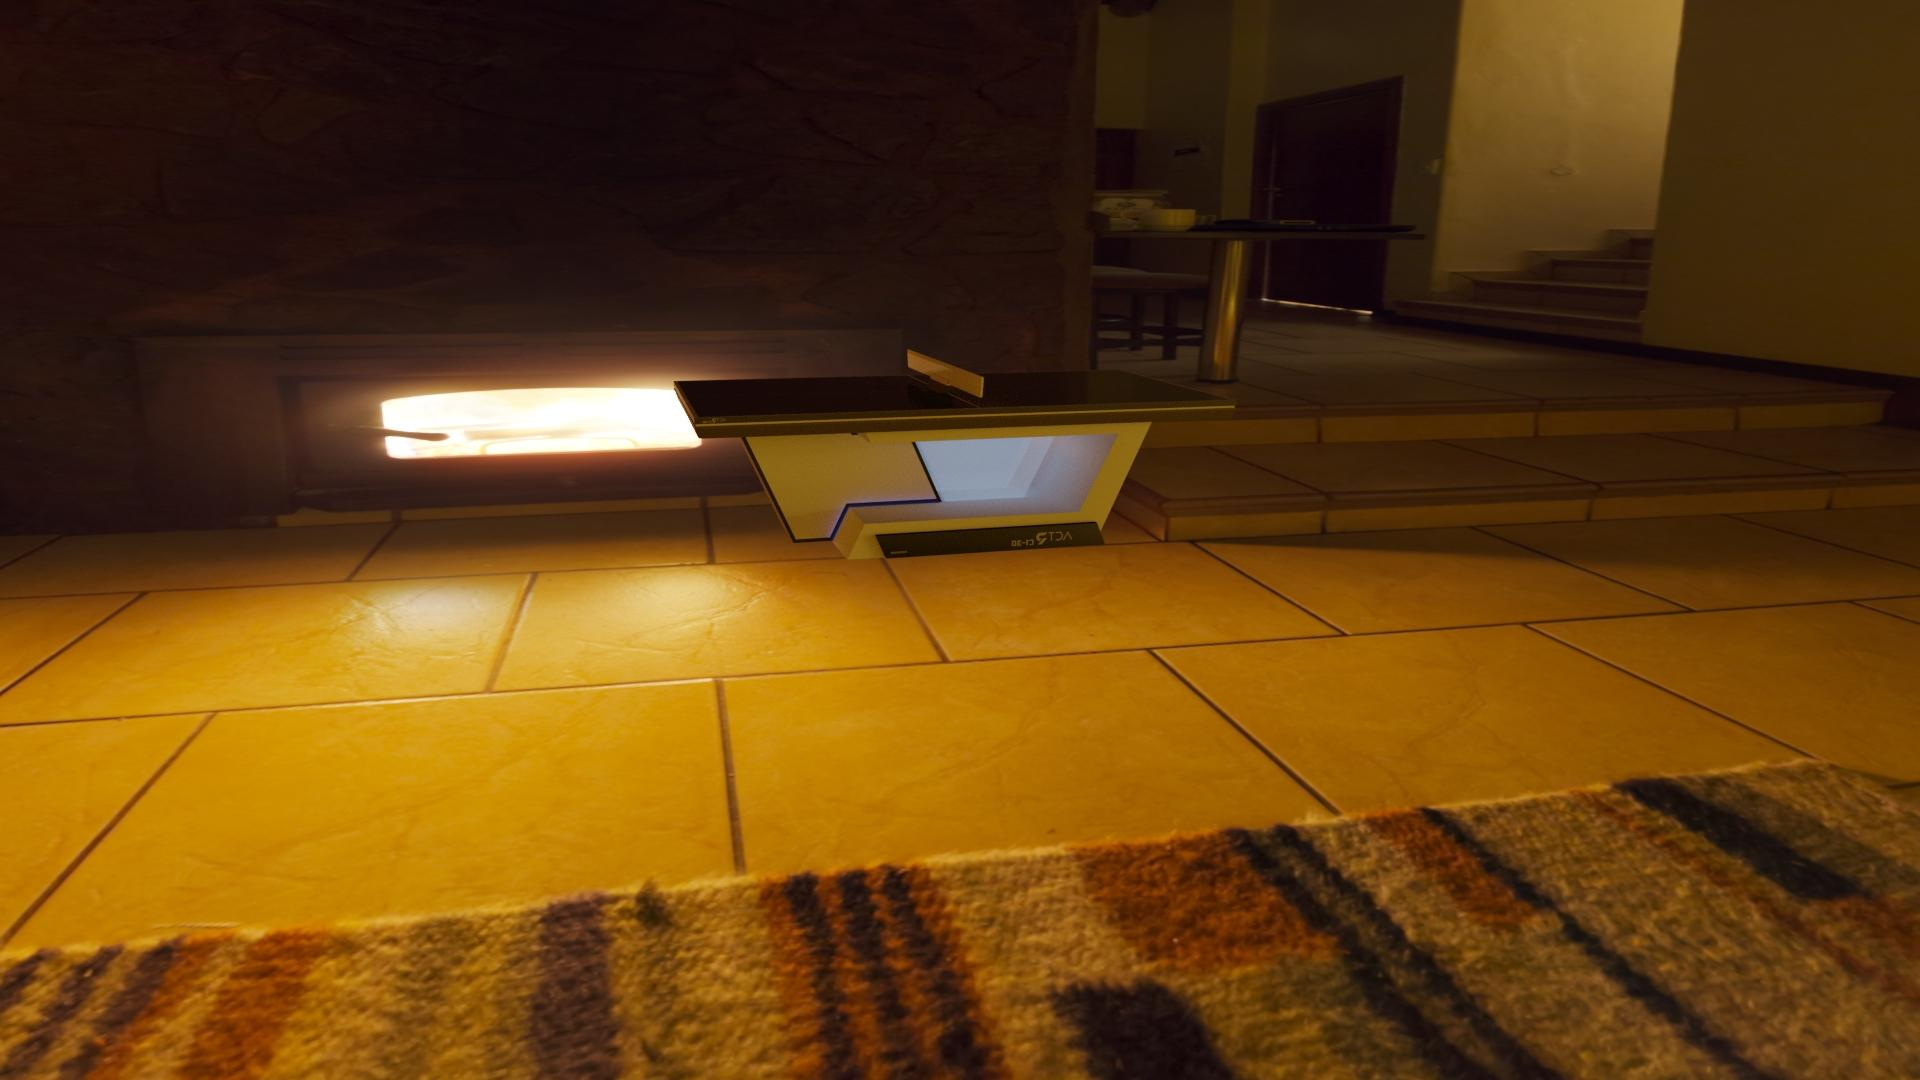table: (676, 371, 1232, 417)
